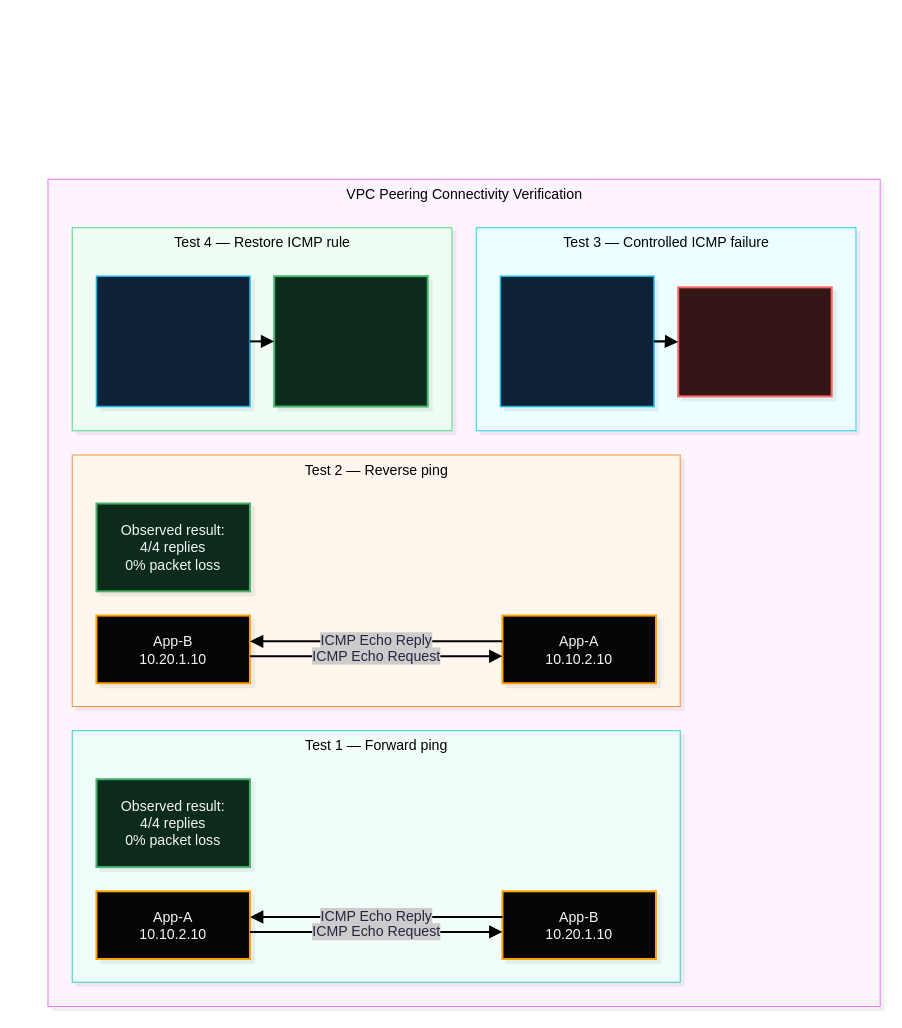
The diagram is 902 pixels wide and 1028 high, and some of its shapes have lost their labels. The centre of each missing label's shape, as x and y in pixels:
"App-A → App-B ping Observed: 100% packet loss" belongs at point 756,343.
"App-A → App-B ping Observed: 4/4 replies 0% packet loss" belongs at point 352,343.
"Restore ICMP IPv4 ingress rule source: 10.10.2.10/32" belongs at point 174,343.
"Temporarily remove ICMP ingress rule from ewb-app-b-sg" belongs at point 578,343.
